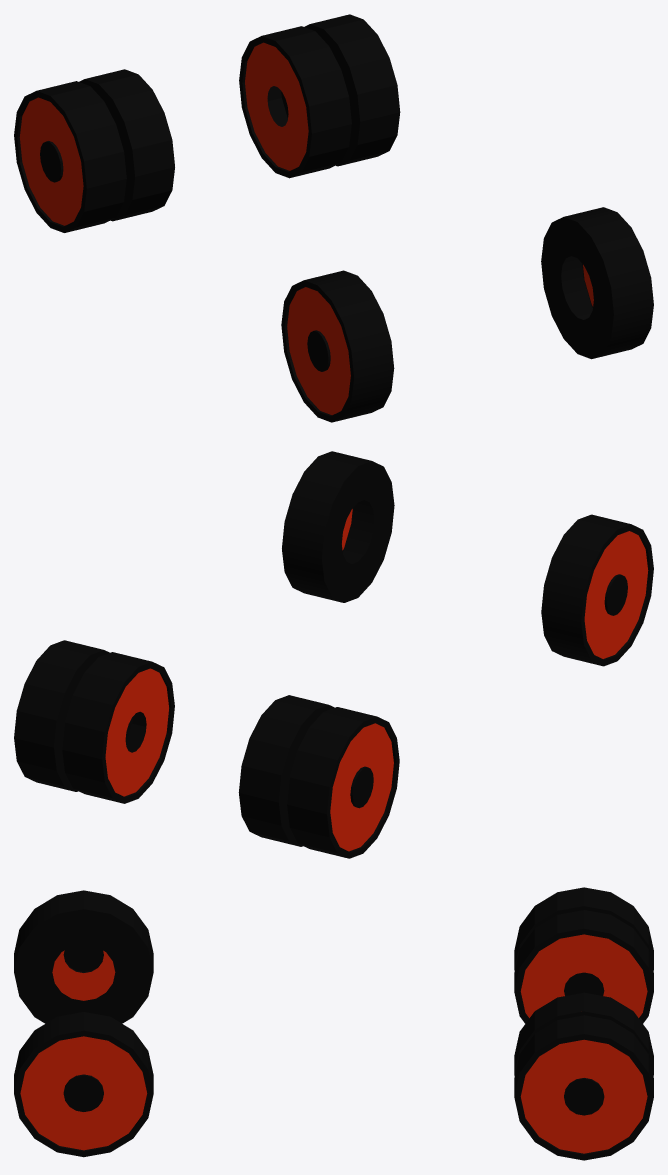
File: bigRigCabin.fbx
3 views of the same model, one above another, from view 1: azimuth 30°, elevation 25°; view 2: azimuth 150°, elevation 25°; view 3: azimuth 270°, elevation 25° (orthographic). The views are drawn at different scales.
Visible parts, largest first — view 1: rl_tire, rr_tire, fr_tire, fl_tire; view 2: rl_tire, rr_tire, fr_tire, fl_tire; view 3: rl_tire, fl_tire, fr_tire, rr_tire.
Boxes of the visible parts, x1,y1,x2,y2 form: rl_tire: [239, 14, 400, 178]; rr_tire: [14, 69, 174, 232]; fr_tire: [281, 270, 394, 422]; fl_tire: [541, 207, 653, 359]; rl_tire: [14, 640, 174, 803]; rr_tire: [238, 695, 399, 858]; fr_tire: [541, 514, 653, 666]; fl_tire: [282, 451, 394, 602]; rl_tire: [514, 992, 653, 1160]; fl_tire: [14, 1012, 153, 1157]; fr_tire: [14, 890, 153, 1023]; rr_tire: [514, 887, 653, 1023].
Size of the model in its own units: 149 by 276 by 60.14.
